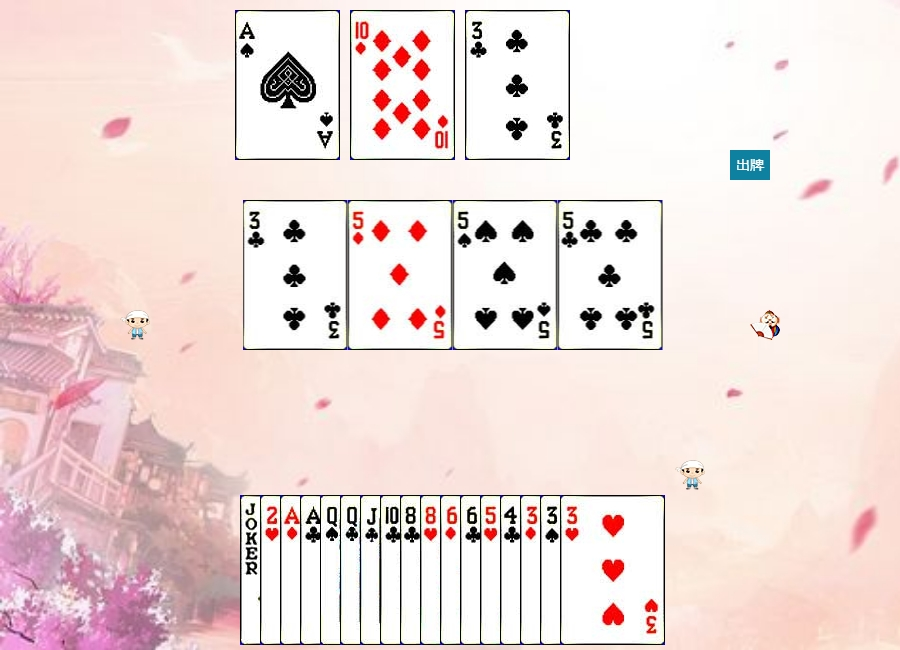10~1: (350, 10, 455, 160)
10~2: (380, 495, 485, 645)
11~2: (360, 495, 465, 645)
12~2: (340, 495, 445, 645)
12~4: (320, 495, 425, 645)
14~1: (280, 495, 385, 645)
14~2: (300, 495, 405, 645)
14~4: (235, 10, 340, 160)
15~3: (260, 495, 365, 645)
17~3: (240, 495, 345, 645)
3~1: (520, 495, 625, 645)
3~2: (465, 10, 570, 160), (243, 200, 348, 350)
3~3: (560, 495, 665, 645)
3~4: (540, 495, 645, 645)
4~2: (500, 495, 605, 645)
5~1: (348, 200, 453, 350)
5~2: (558, 200, 663, 350)
5~3: (480, 495, 585, 645)
5~4: (453, 200, 558, 350)
6~1: (440, 495, 545, 645)
6~2: (460, 495, 565, 645)
8~2: (400, 495, 505, 645)
8~3: (420, 495, 525, 645)
